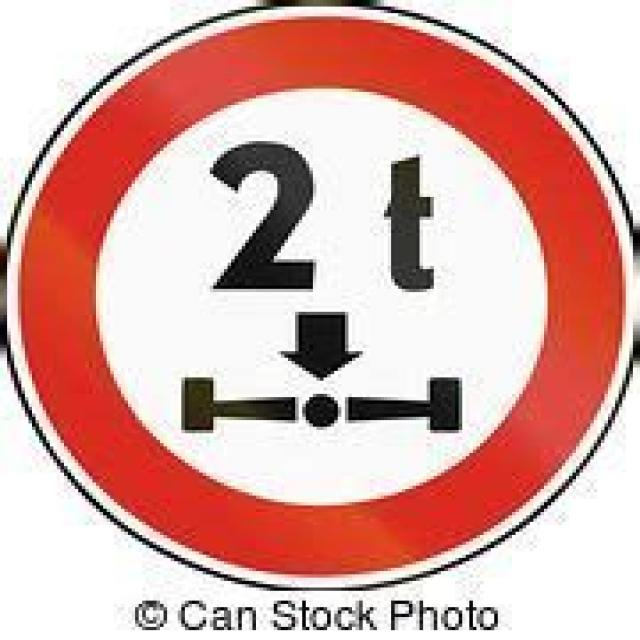axle_load_limit: (0, 0, 636, 587)
